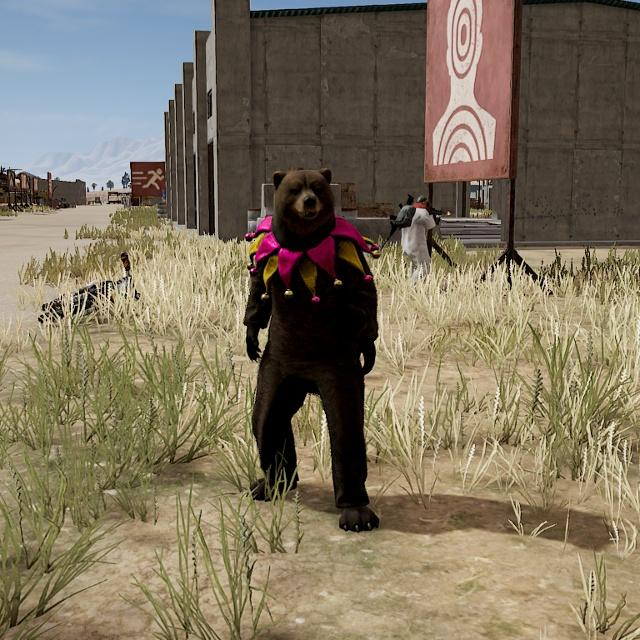head: (269, 165, 337, 233), (414, 194, 430, 209)
people: (234, 161, 383, 534), (395, 190, 441, 284)
